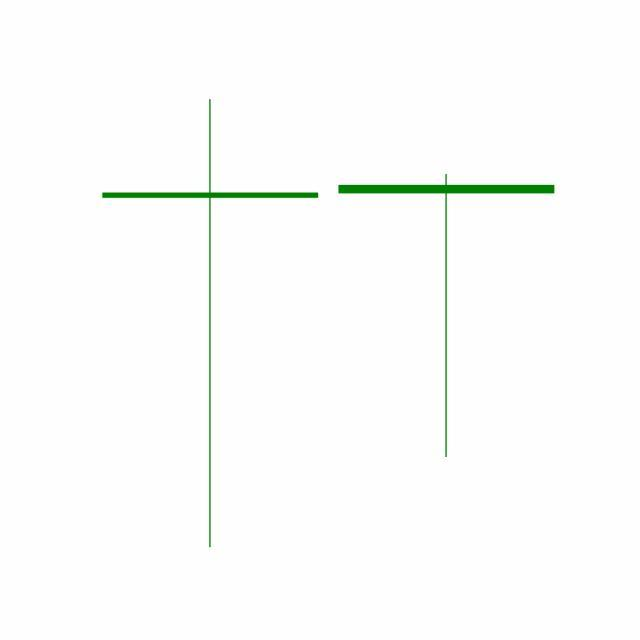Dragonfly Doji: (328, 172, 566, 461)
